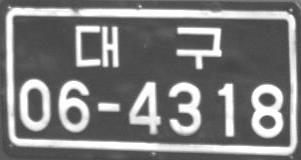0: (18, 77, 51, 131)
1: (212, 82, 245, 136)
3: (168, 80, 202, 135)
4: (128, 80, 162, 133)
6: (57, 79, 90, 133)
8: (250, 82, 284, 139)
대구_D: (75, 24, 222, 69)
